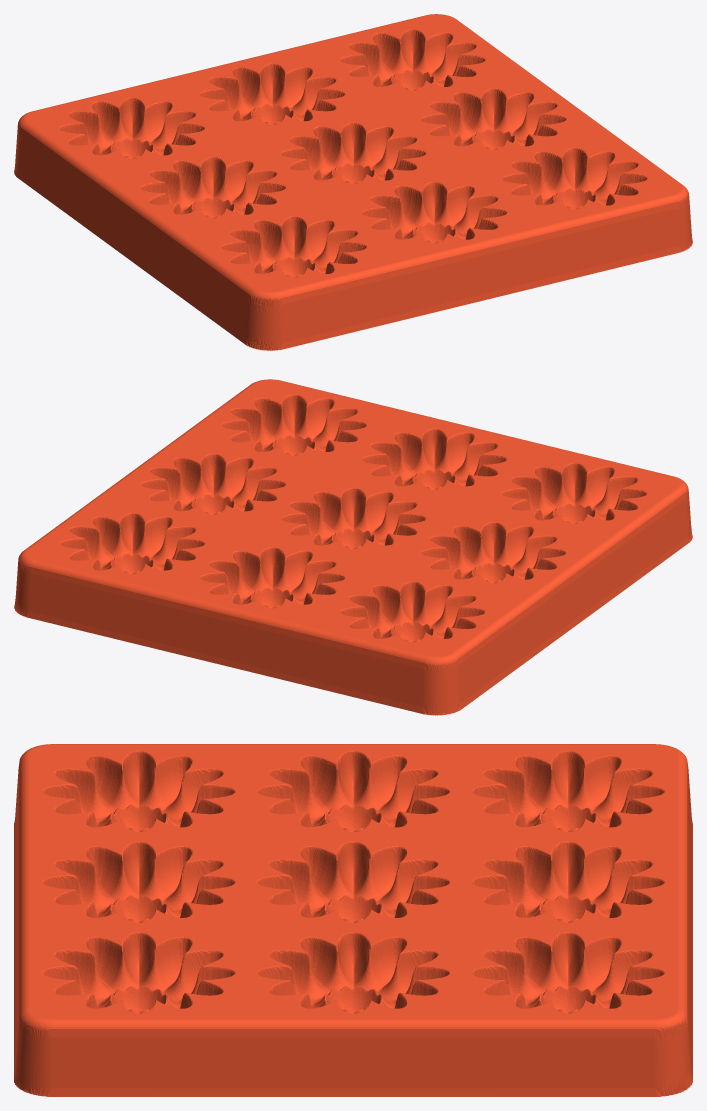
The model's file is mold.glb.
The picture shows the model from 3 angles, top to bottom: view 1: azimuth 30°, elevation 25°; view 2: azimuth 150°, elevation 25°; view 3: azimuth 270°, elevation 25°; orthographic projection. The views are drawn at different scales.
Parts seen in each view (by area): view 1: geometry_0; view 2: geometry_0; view 3: geometry_0.
Part boxes in pixels (box(x1,y1,x2,y2)): geometry_0: box(14, 14, 692, 350); geometry_0: box(14, 379, 692, 715); geometry_0: box(14, 744, 692, 1096).
Size of the model in its own units: 0.1595 by 0.0185 by 0.1595.
